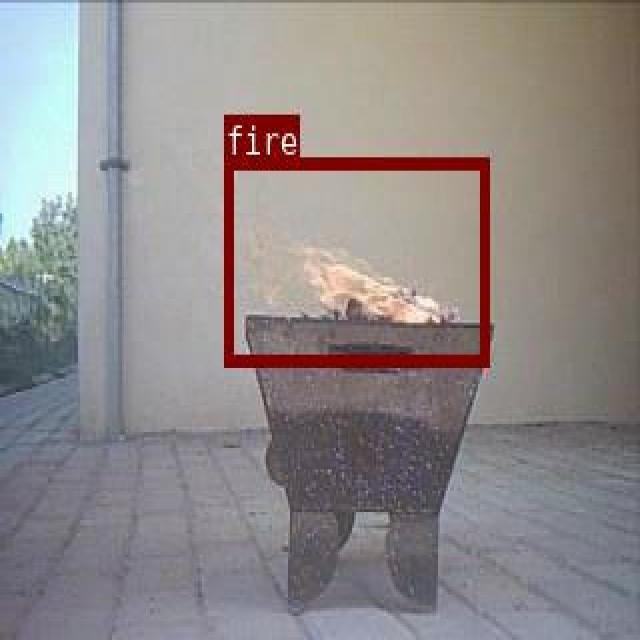fire: (222, 156, 487, 365)
